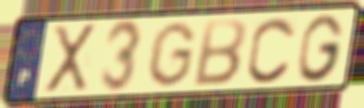3: (98, 16, 144, 98)
B: (190, 16, 249, 88)
C: (245, 15, 299, 86)
G: (144, 20, 199, 89), (296, 12, 347, 85)
X: (44, 22, 98, 96)
